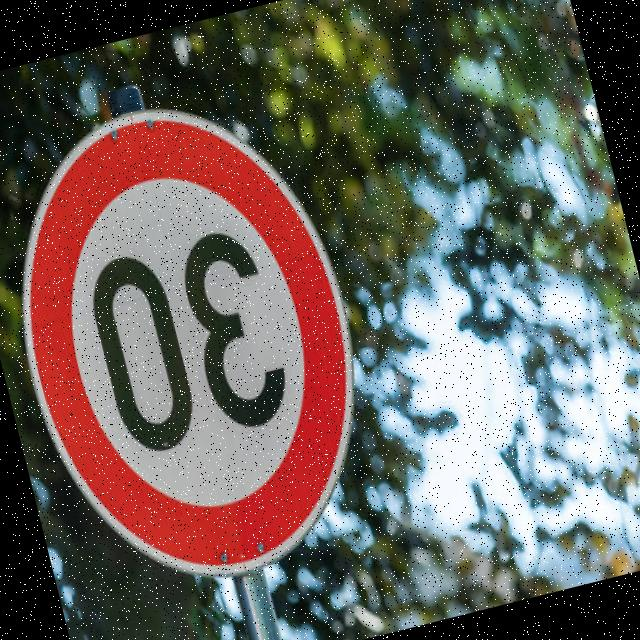speed_limit_30: (0, 62, 414, 625)
